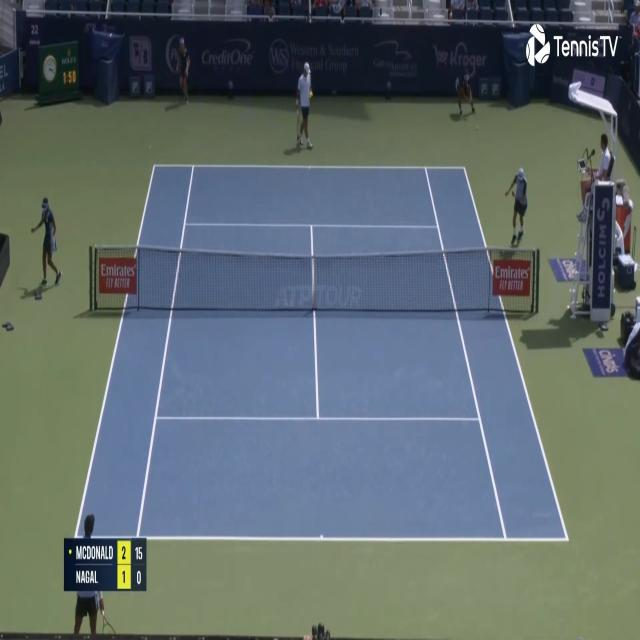tennis-player: (72, 512, 117, 636), (292, 59, 316, 151)
